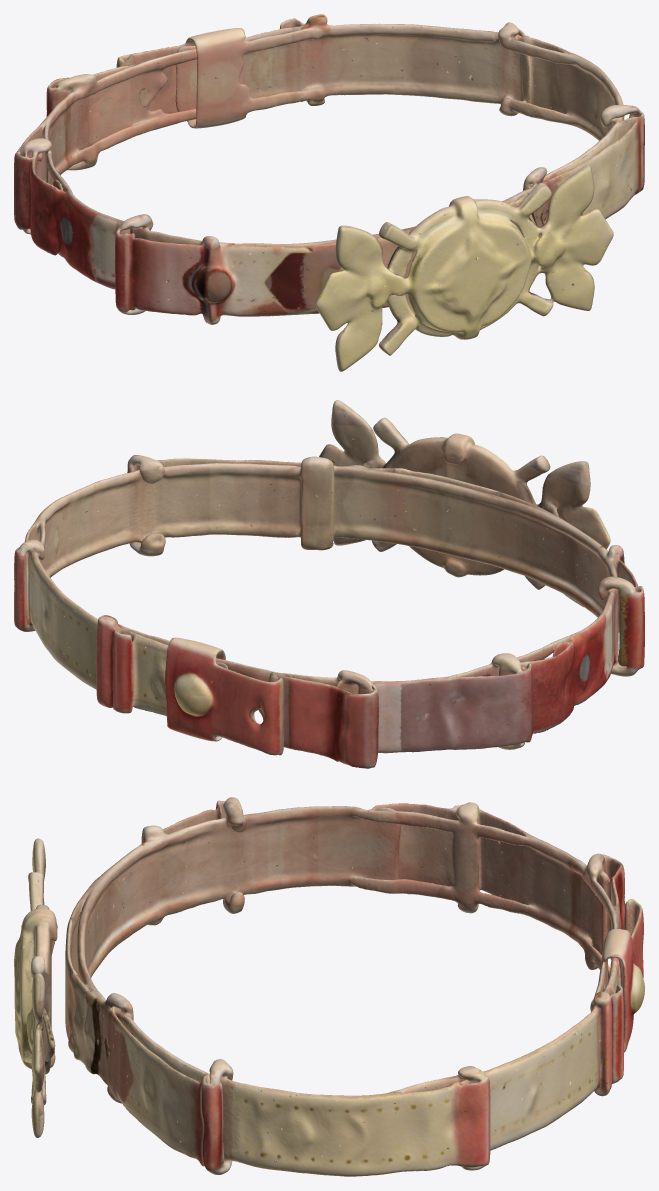
File: Red_Bow_Collar_.glb
3 renders of one model, top to bottom at view 1: azimuth 30°, elevation 25°; view 2: azimuth 150°, elevation 25°; view 3: azimuth 270°, elevation 25°, orthographic. The views are drawn at different scales.
Bounding box in the file's own units: 2 × 0.5175 × 1.8.
1 material, 1 textured.
